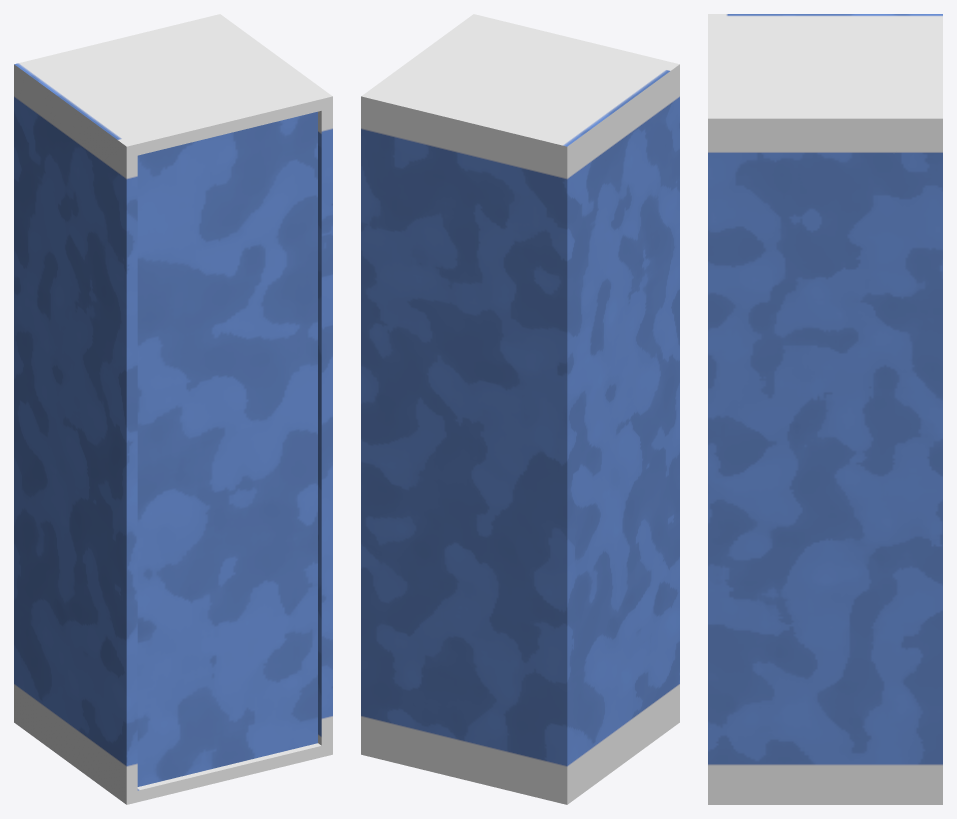
Rendered from Stand.fbx.
The picture shows the model from 3 angles, left to right: view 1: azimuth 30°, elevation 25°; view 2: azimuth 150°, elevation 25°; view 3: azimuth 270°, elevation 25°; orthographic projection. The views are drawn at different scales.
Parts seen in each view (by area): view 1: standbody, stand_door; view 2: standbody; view 3: standbody.
Boxes of the visible parts, x1,y1,x2,y2 form: standbody: (14,14,332,804); stand_door: (137,111,317,786); standbody: (361,14,679,804); standbody: (708,14,942,804).
Size of the model in its own units: 3.72 by 11.35 by 3.52.
